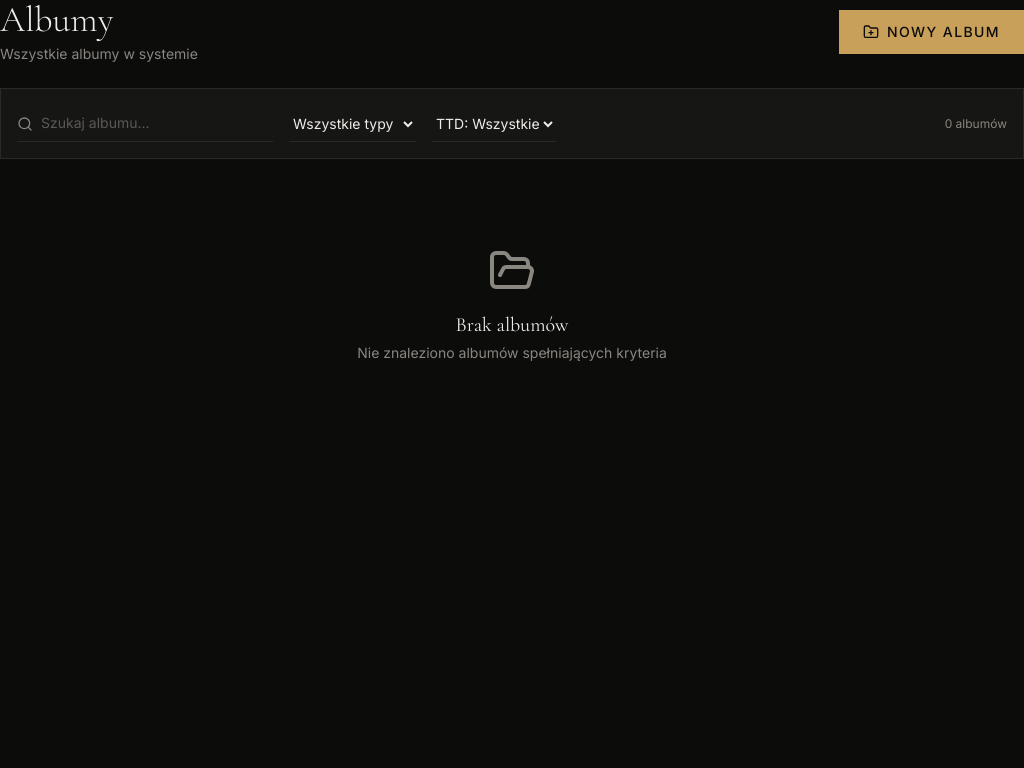
Scenario: AdminAlbums › Creating an album sends the typed name and closes the form afterwards
Click the button "Nowy album" at (932, 32), box [839,10,1023,54]
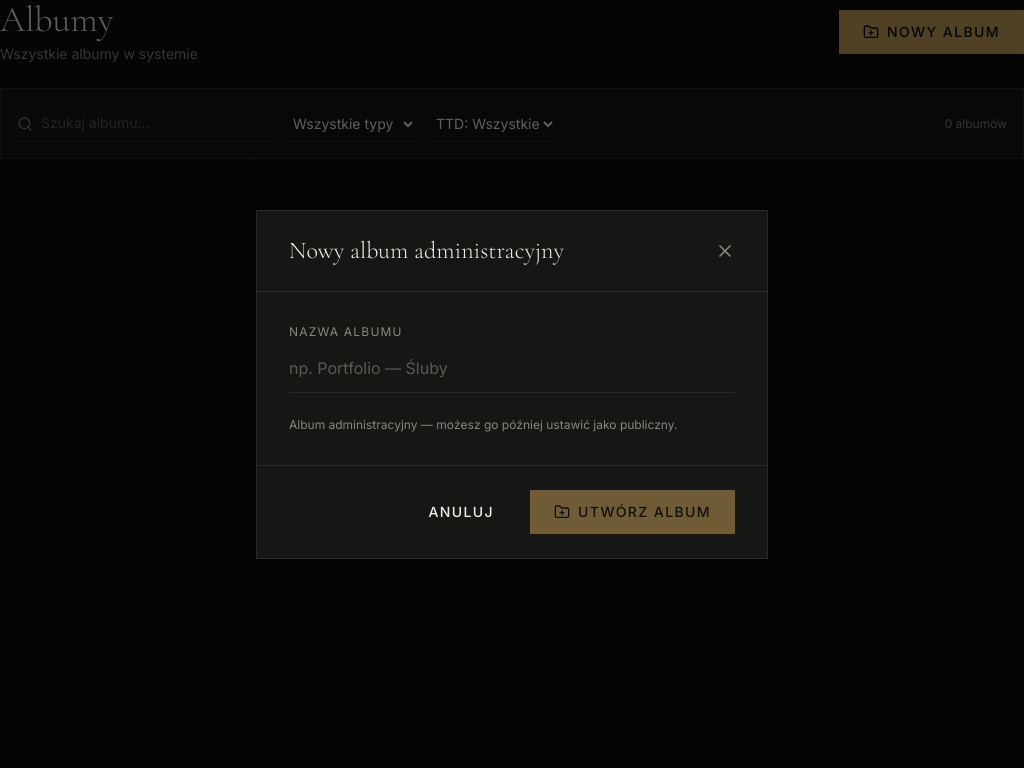
Type "portfolio-plenery" into the field labelled "Nazwa albumu" at (512, 368), box [289,344,735,392]
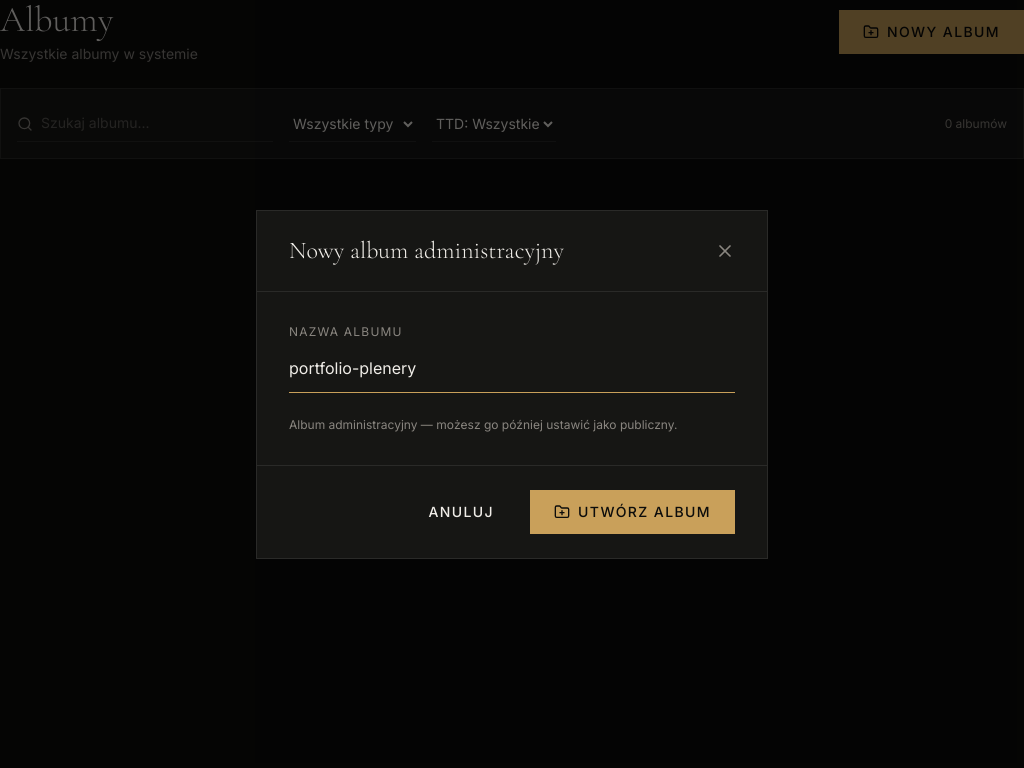
Click the button "Utwórz album" at (633, 512), box [530,490,735,534]
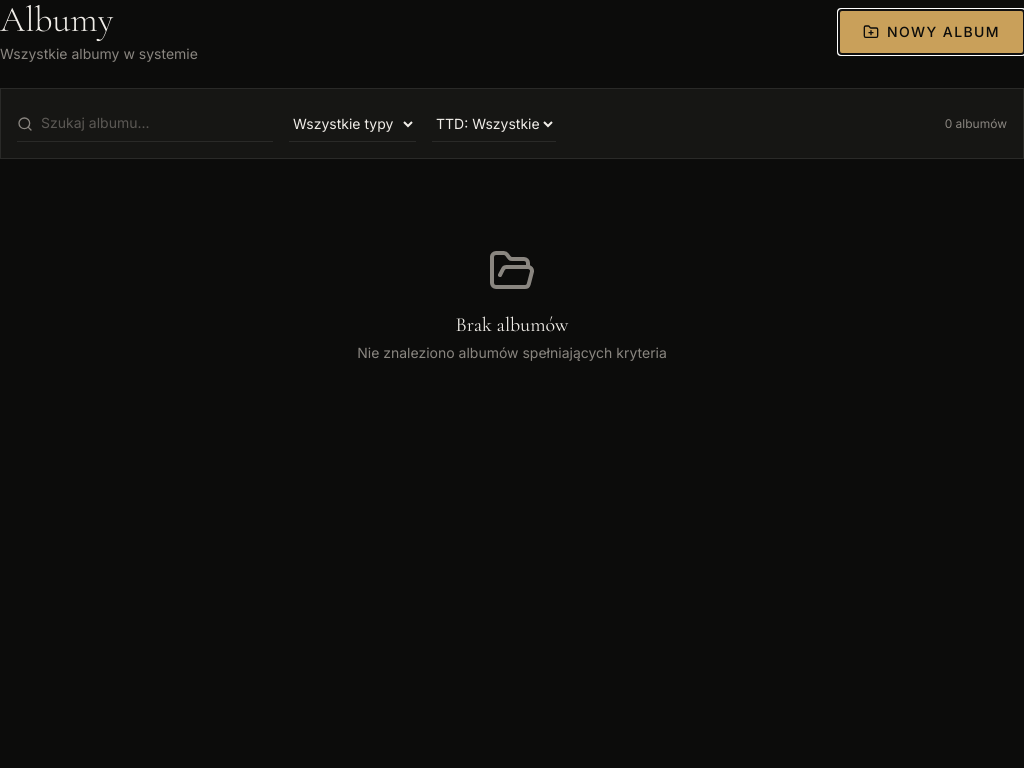
Expected: the dialog is gone
